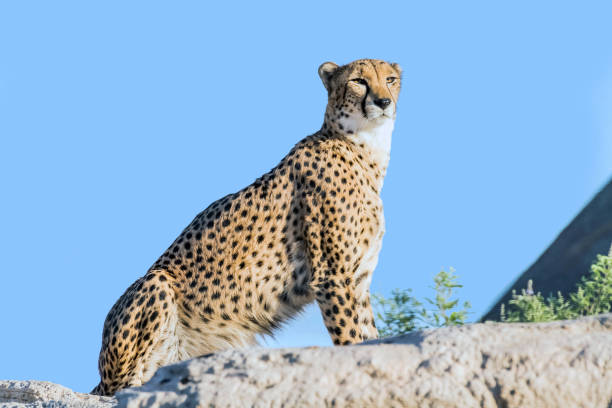cheetah: (315, 46, 413, 148)
